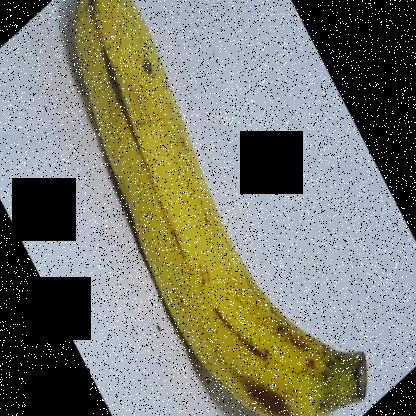ripe: (64, 0, 380, 415)
